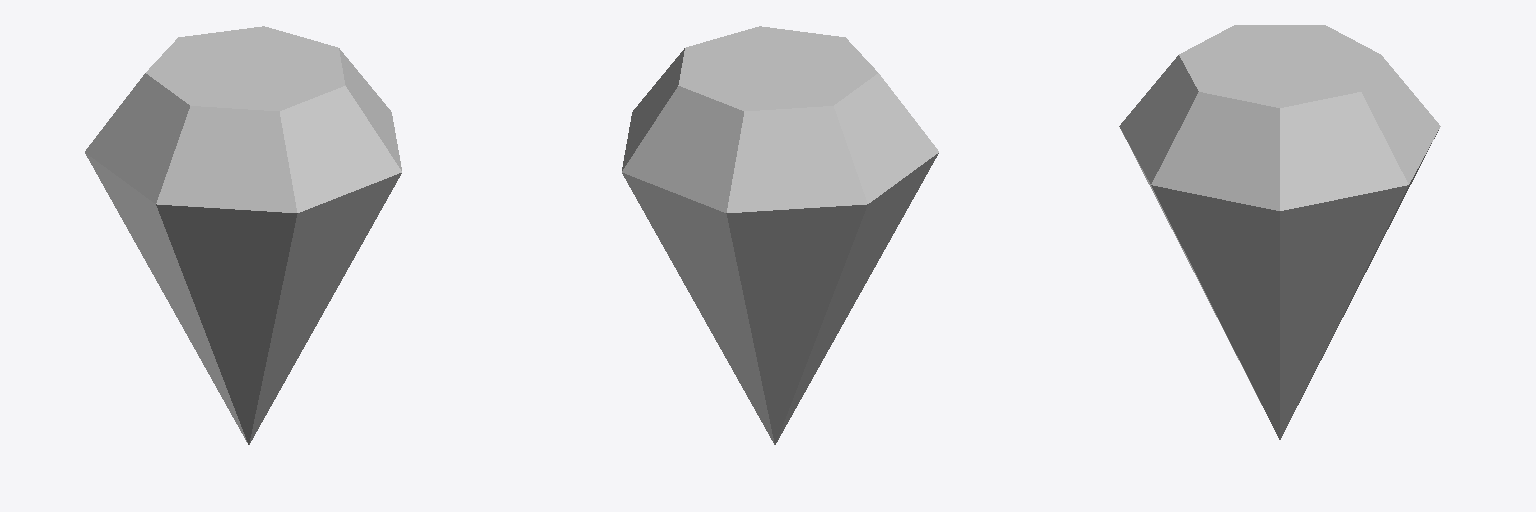
The model's file is magicWand_stick5.obj.
The picture shows the model from 3 angles: view 1: azimuth 30°, elevation 25°; view 2: azimuth 150°, elevation 25°; view 3: azimuth 270°, elevation 25°; orthographic projection.
Parts seen in each view (by area): view 1: magicWand_stick5; view 2: magicWand_stick5; view 3: magicWand_stick5.
Part boxes in pixels (bbox=[...]): magicWand_stick5: bbox=[85, 26, 401, 444]; magicWand_stick5: bbox=[622, 26, 938, 444]; magicWand_stick5: bbox=[1119, 25, 1440, 439].
Bounding box in the file's own units: 0.1451 × 0.1921 × 0.1489.